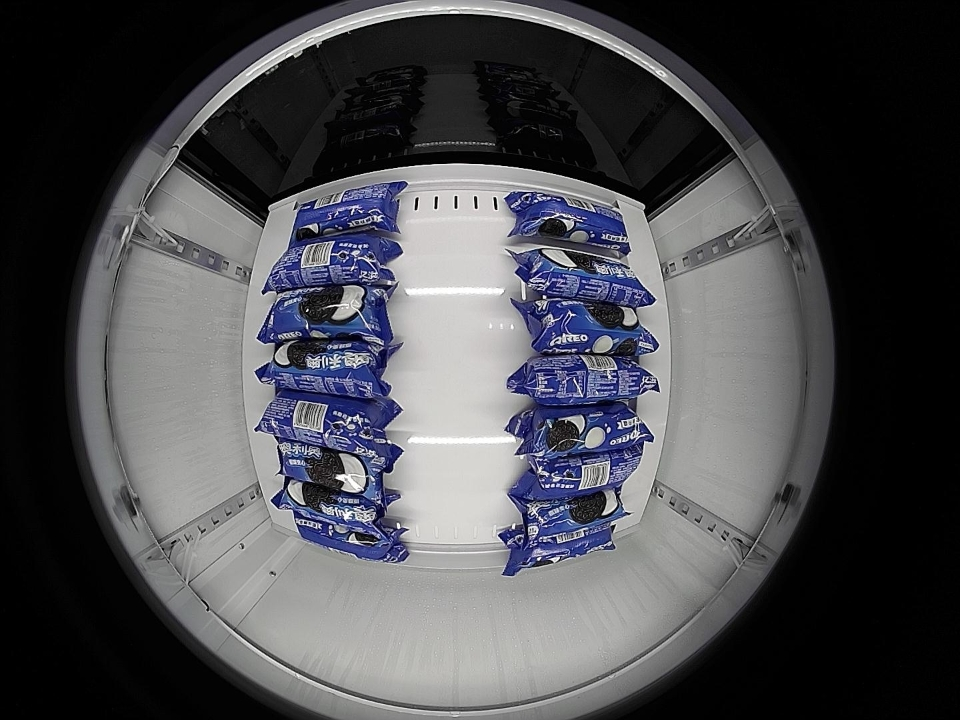aoliao: (262, 392, 390, 453), (524, 248, 650, 306), (260, 288, 389, 341), (514, 191, 631, 249), (536, 300, 655, 356), (262, 341, 383, 395), (265, 235, 384, 287), (529, 354, 649, 405), (526, 405, 645, 452), (290, 185, 399, 236), (274, 445, 385, 494), (287, 517, 397, 560), (507, 523, 615, 566), (280, 480, 382, 522), (523, 489, 621, 532), (523, 454, 639, 489)
